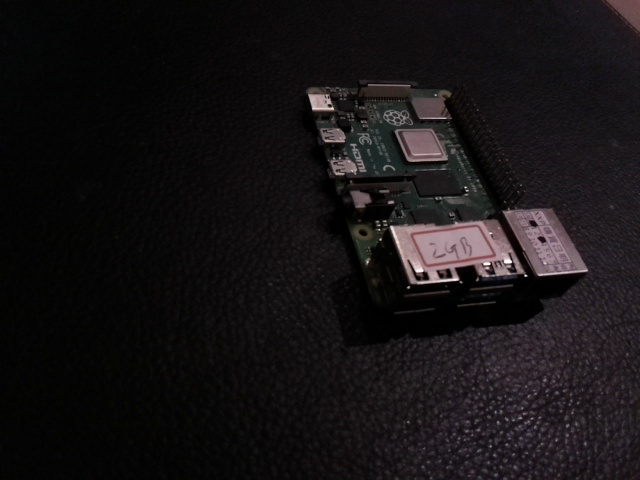pi4: (280, 58, 609, 314)
